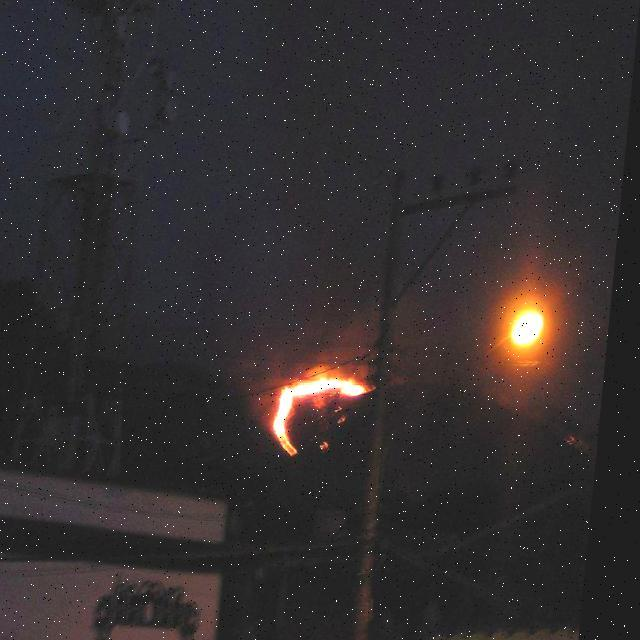Fire: (260, 334, 384, 460)
